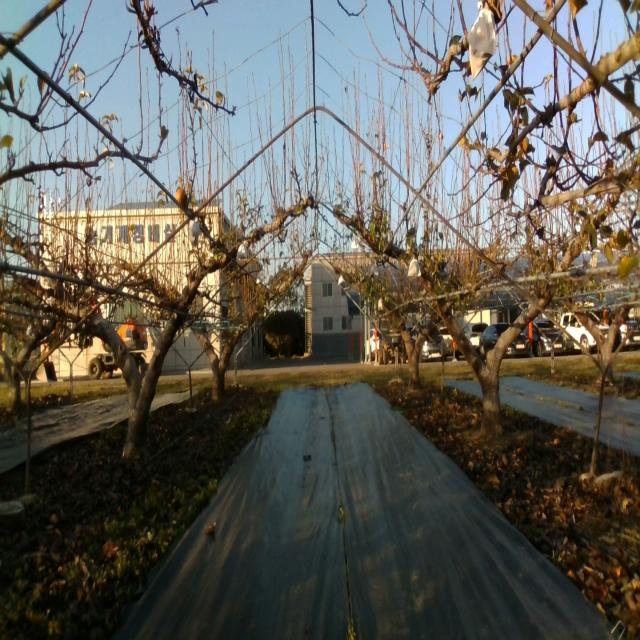pearbags: (468, 2, 497, 82), (407, 254, 422, 277), (189, 216, 200, 245), (236, 240, 248, 260)
